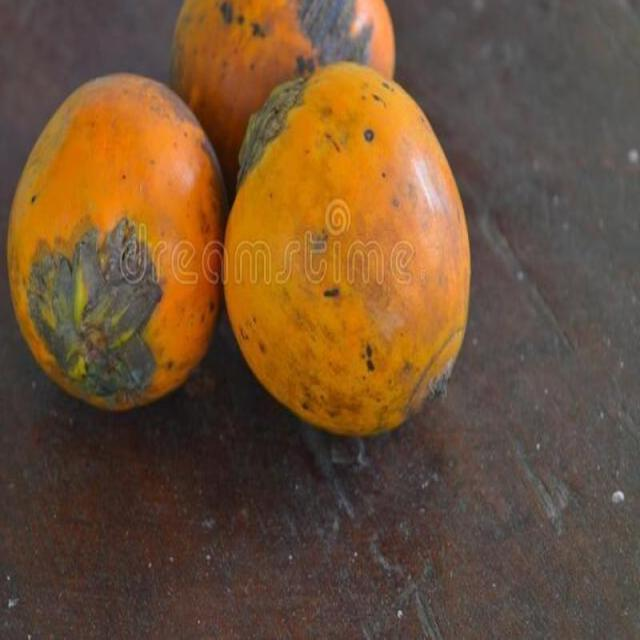good: (222, 63, 470, 439), (6, 75, 231, 415), (169, 0, 394, 194)
